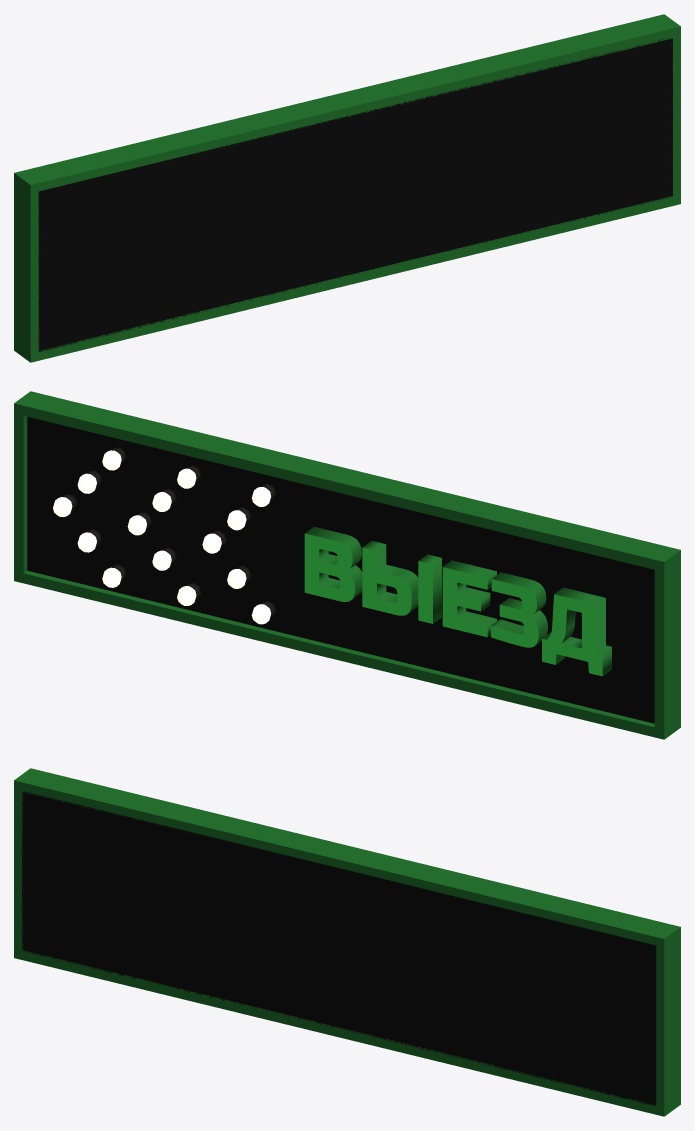
Rendered from arrow_exit_left.glb.
3 views of the same model, one above another, from view 1: azimuth 30°, elevation 25°; view 2: azimuth 150°, elevation 25°; view 3: azimuth 330°, elevation 25° (orthographic).
Parts seen in each view (by area): view 1: Sign; view 2: Sign, BulbsA, BulbsB; view 3: Sign.
Boxes of the visible parts, left/top/right/bottom form: Sign: left=14, top=14, right=680, bottom=362; Sign: left=14, top=391, right=680, bottom=739; BulbsA: left=53, top=450, right=271, bottom=624; BulbsB: left=127, top=468, right=196, bottom=605; Sign: left=14, top=768, right=680, bottom=1116.
Size of the model in its own units: 4.06 by 1.06 by 0.268.
2 materials, 1 textured.
